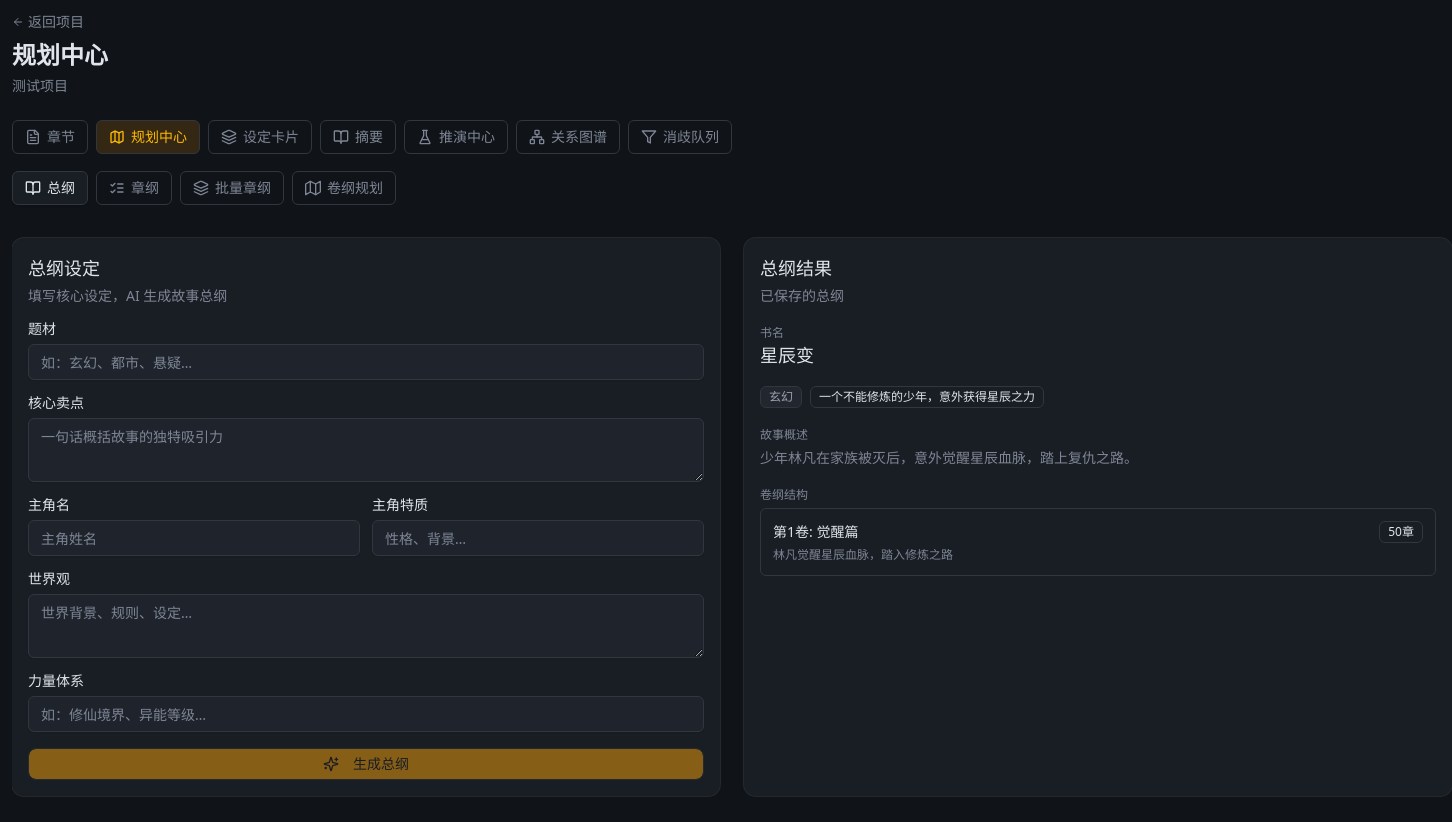
Test: PlanningCenter › volume-plan: shows form inputs
expect the text "测试项目" is shown: met, box [12,76,68,95]
Click the tab "卷纲规划" at {"x": 344, "y": 188}, box [292,171,396,205]
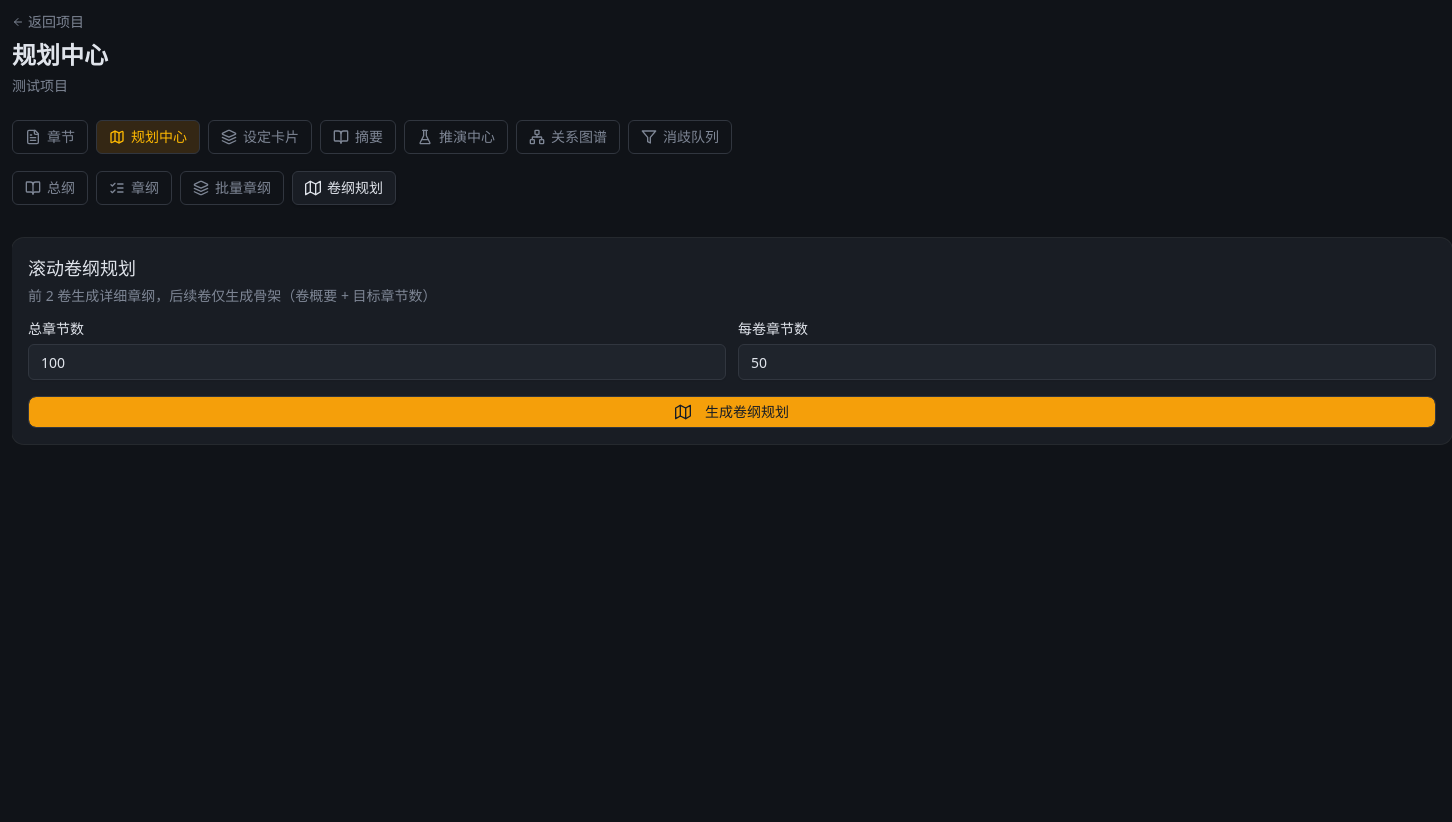
expect the number field labelled "总章节数" is shown: met, box [28,344,726,380]
expect the number field labelled "每卷章节数" is shown: met, box [738,344,1436,380]
